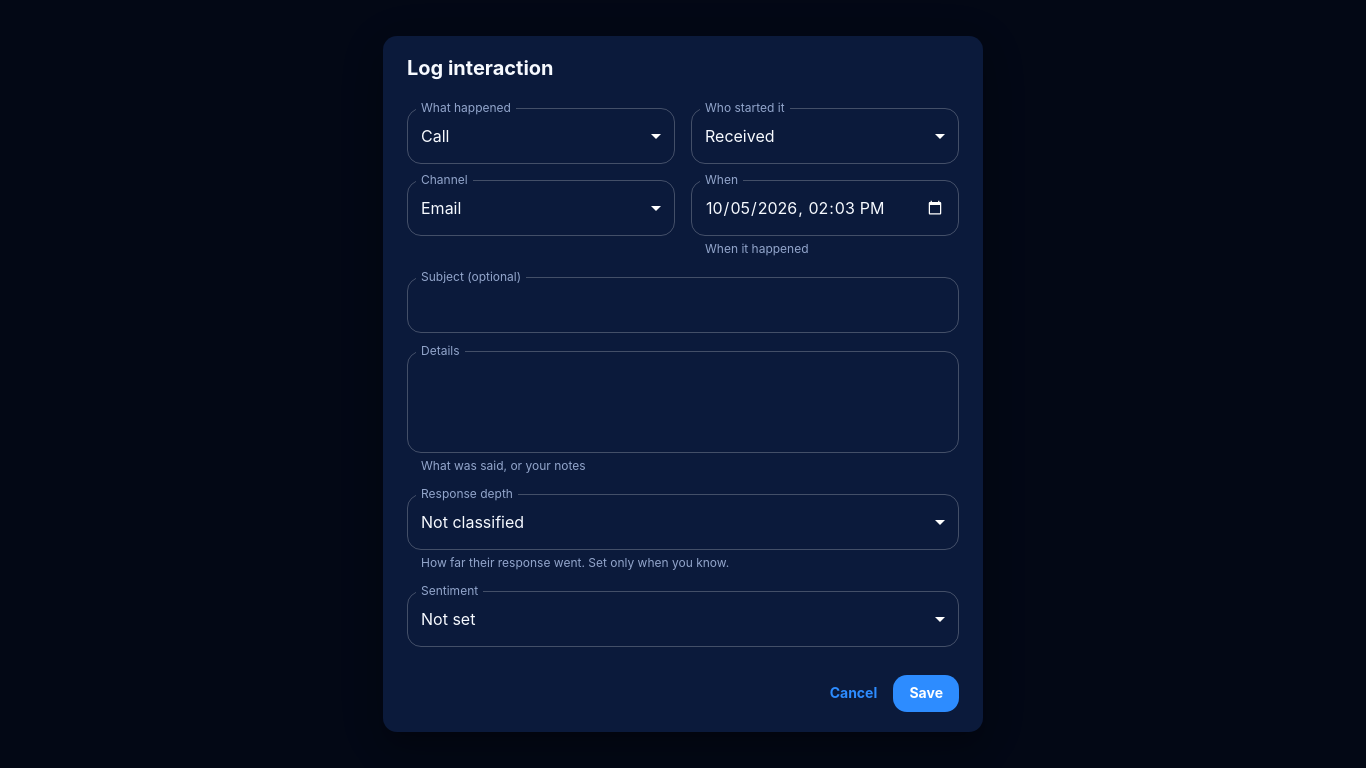
Test case: LogInteractionForm › refuses a time in the future before sending anything
Replace the text in the field labelled "When" with "2099-01-01T10:00": (825, 208) [691,180,959,236]
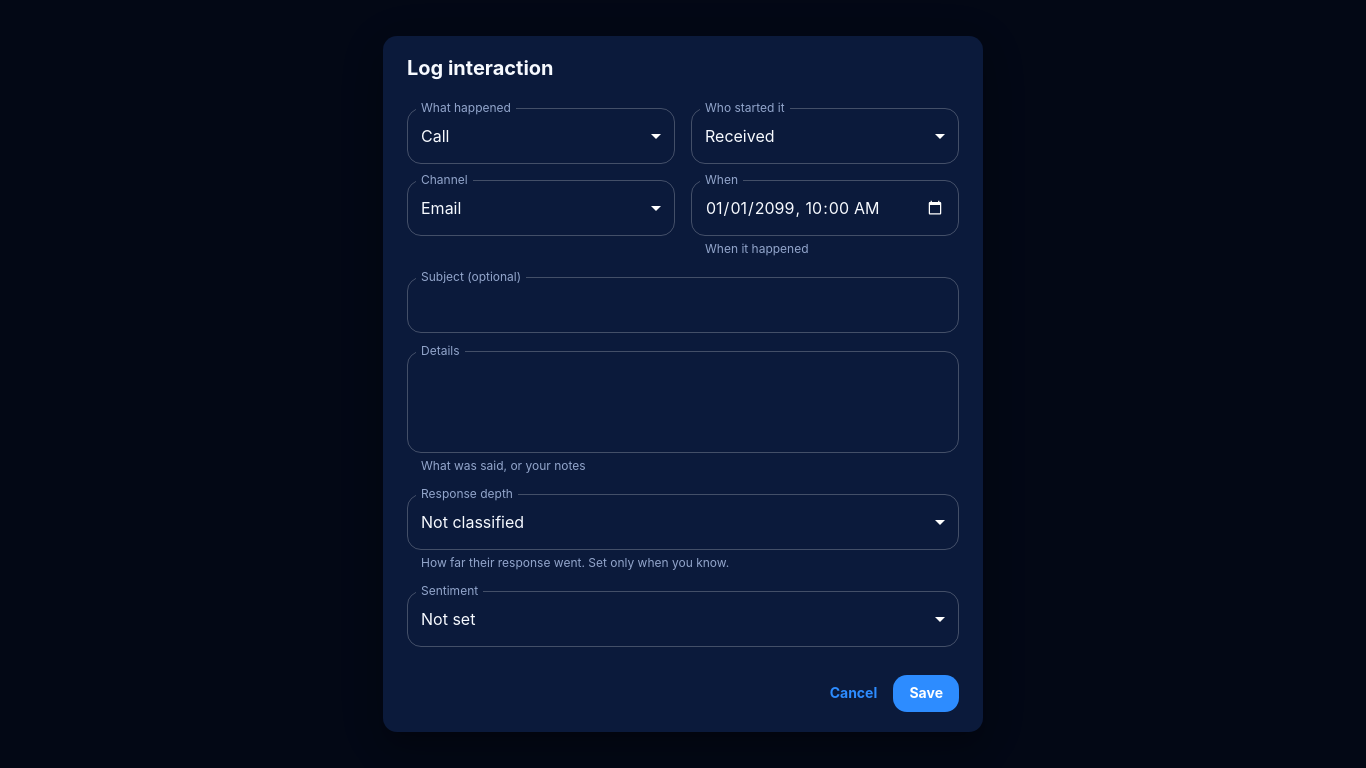
Click the button "Save": click(926, 693) [894,675,959,712]
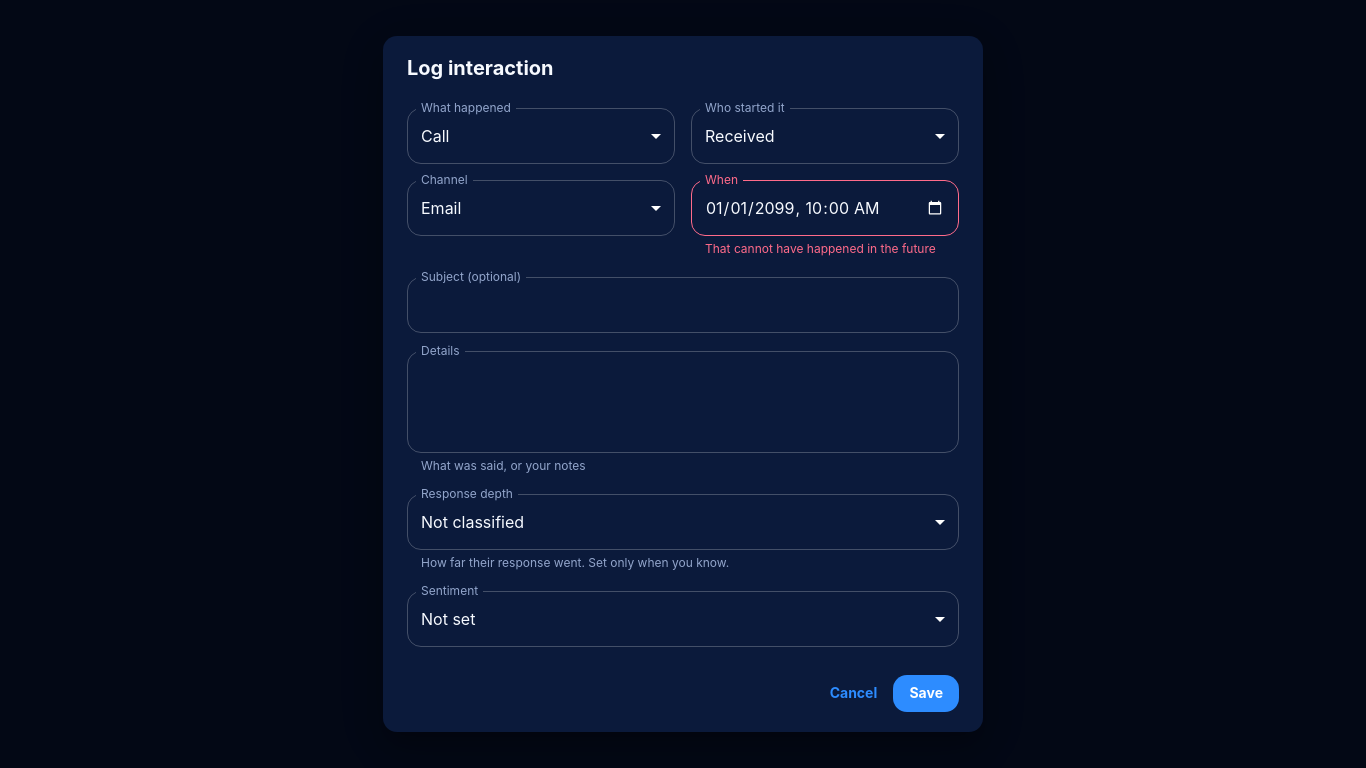
Check: the text "That cannot have happened in the future" is shown, box [705,239,945,259]
